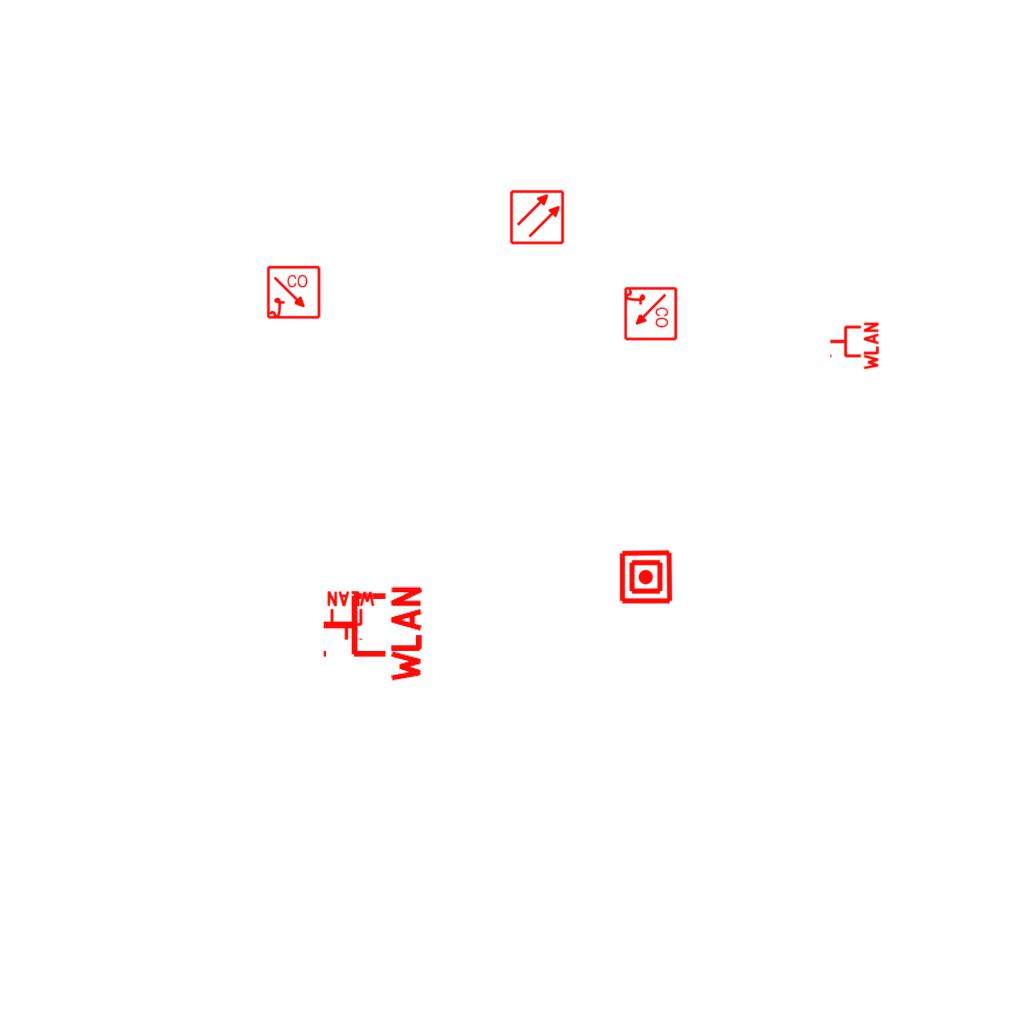NAM-Nichtautomatischer_Melder: (618, 549, 674, 605)
RMO_Rauchmelder_optischer: (509, 189, 565, 245)
ROA_Rauchmelder_optisch_mit_Signalgeber_(Sockelsirene): (622, 286, 678, 342), (266, 265, 322, 321)
WLAN: (319, 582, 424, 686), (828, 320, 880, 372), (325, 590, 377, 642)
